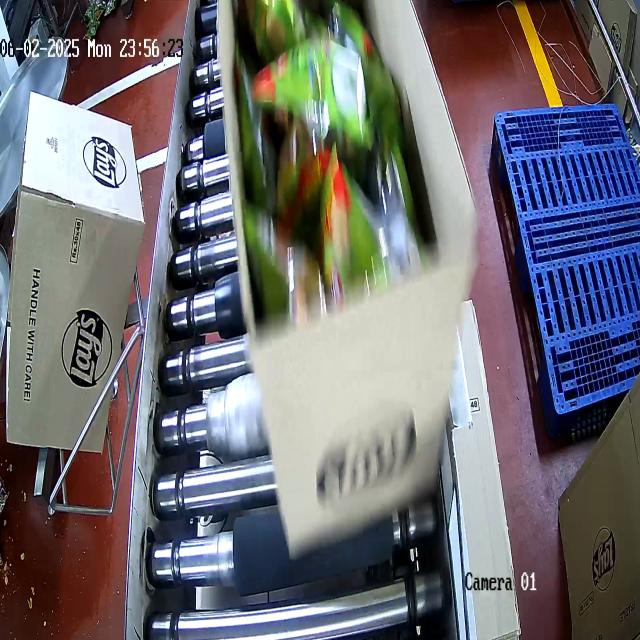YOGURT_HERB: (244, 0, 385, 332)
